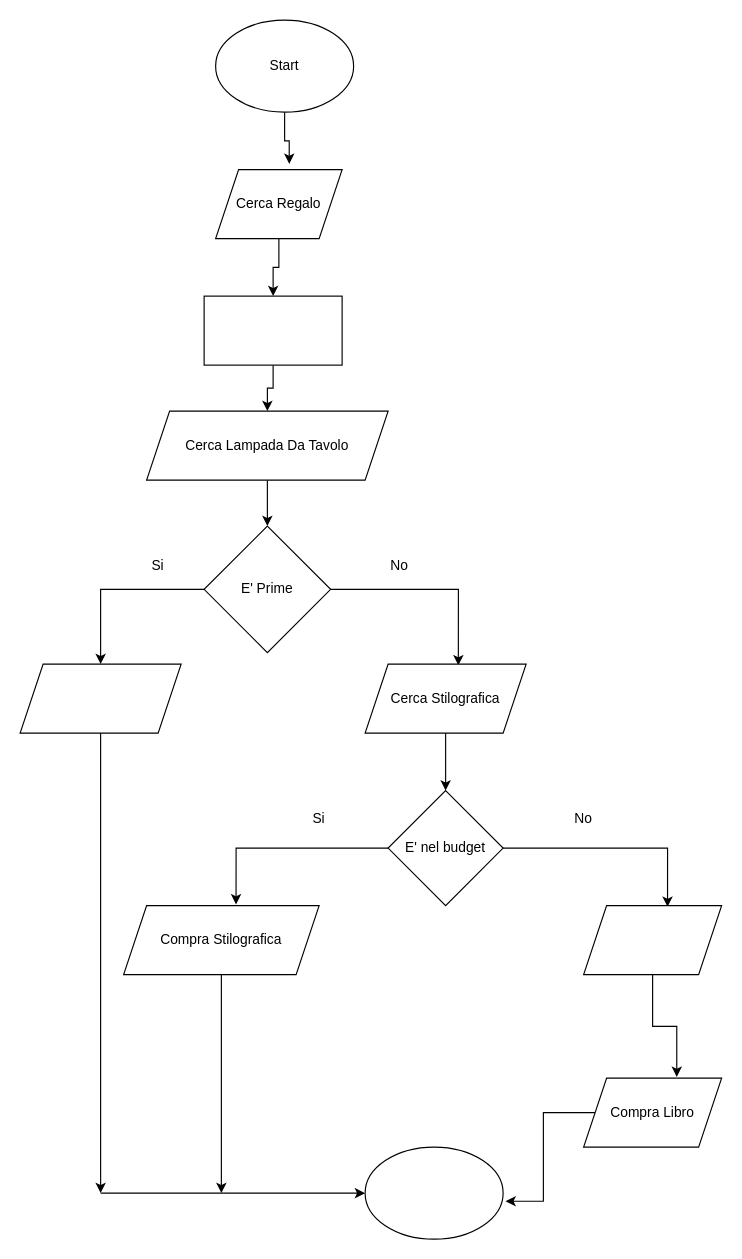
This 742x1259 diagram has some shape labels left out. The shapes that lost their labels are listed below. From the top down, each one's centre as x and y in pixels, then its label:
At (x=272, y=330): "Apri Amazon".
At (x=100, y=698): "Compra Lampada".
At (x=652, y=939): "Cerca Libro".
At (x=433, y=1192): "End".
